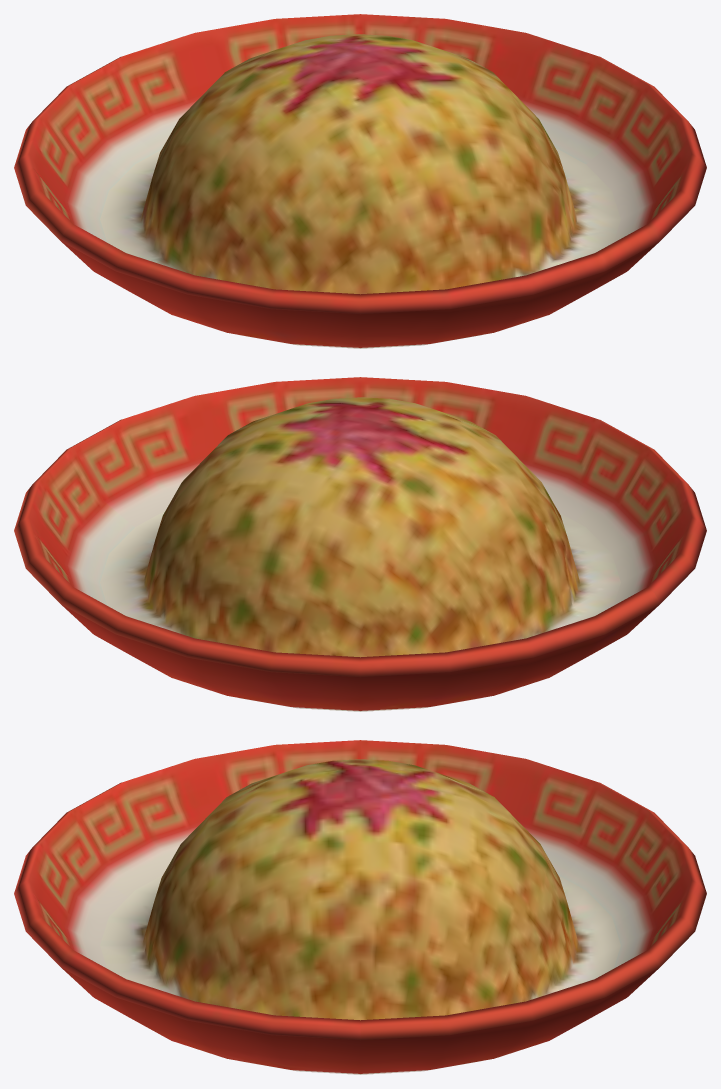
The picture shows the model from 3 angles, top to bottom: view 1: azimuth 30°, elevation 25°; view 2: azimuth 150°, elevation 25°; view 3: azimuth 270°, elevation 25°; orthographic projection.
Size of the model in its own units: 7.11 by 2.09 by 7.11.
1 material, 1 textured.
